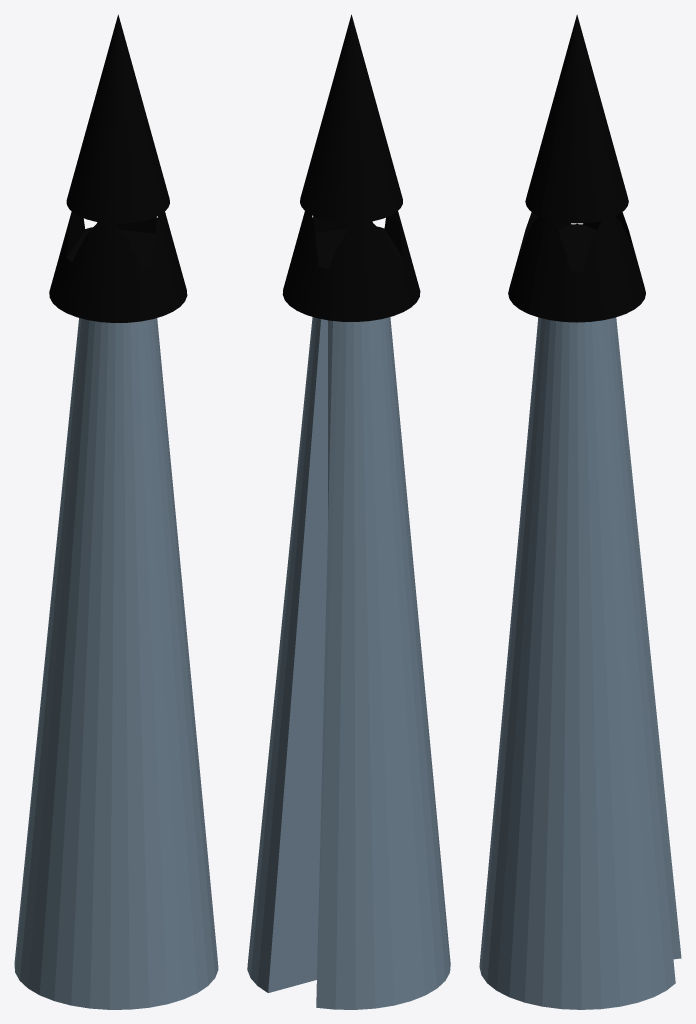
File: lighthouse.glb
3 views of the same model, side by side, from view 1: azimuth 30°, elevation 25°; view 2: azimuth 150°, elevation 25°; view 3: azimuth 270°, elevation 25° (orthographic).
Parts seen in each view (by area): view 1: Cylinder, Cone; view 2: Cylinder, Cone; view 3: Cylinder, Cone.
Part boxes in pixels (<box>): Cylinder: <box>14,318,218,1009</box>; Cone: <box>49,14,187,322</box>; Cylinder: <box>247,317,450,1009</box>; Cone: <box>282,14,420,321</box>; Cylinder: <box>479,317,681,1009</box>; Cone: <box>508,14,645,322</box>.
Size of the model in its own units: 5.91 by 30.46 by 5.86.
